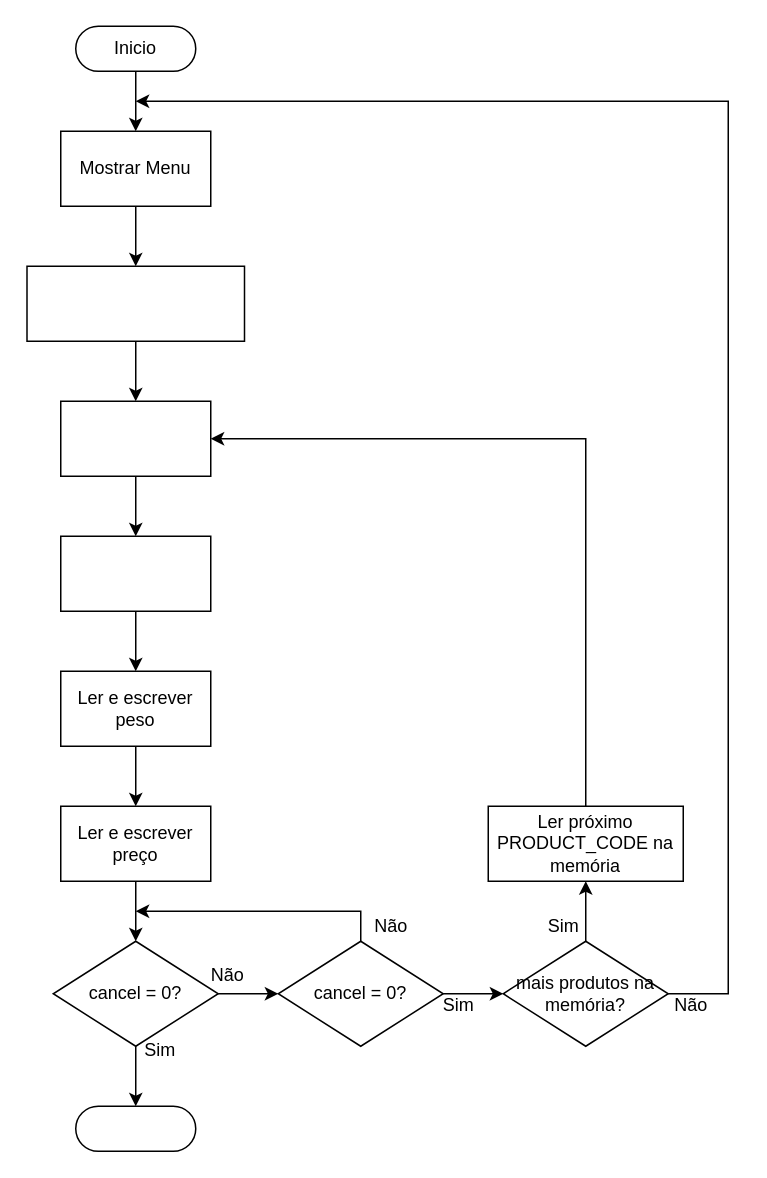
The diagram is 767 pixels wide and 1178 high, and some of its shapes have lost their labels. The centre of each missing label's shape, as x and y in pixels:
"Encontrar nome na tabela" goes at pixel 135 438.
"Escrever nome no display" goes at pixel 135 573.
"Fim" goes at pixel 135 1128.
"Ler 1º PRODUCT_CODE na memória" goes at pixel 135 303.
